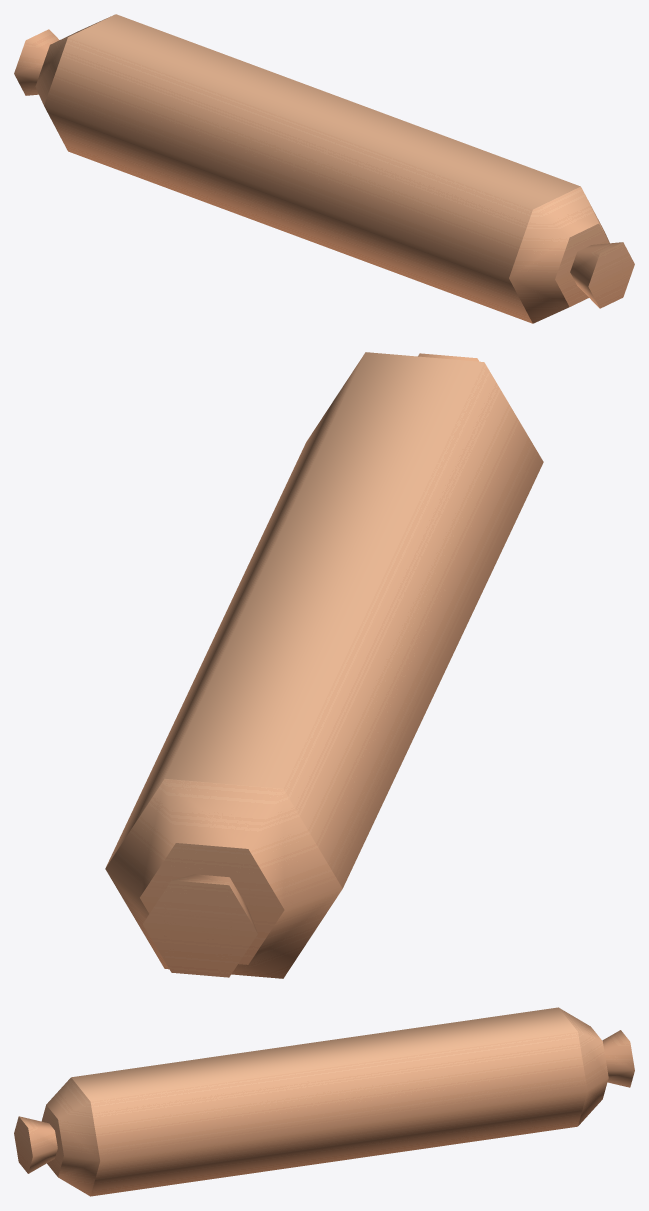
The model's file is hot-dog-raw.glb.
3 views of the same model, one above another, from view 1: azimuth 30°, elevation 25°; view 2: azimuth 150°, elevation 25°; view 3: azimuth 270°, elevation 25° (orthographic). The views are drawn at different scales.
Visible parts, largest first — view 1: hot-dog-raw; view 2: hot-dog-raw; view 3: hot-dog-raw.
Part boxes in pixels (box(x1,y1,x2,y2)): hot-dog-raw: box(14, 14, 634, 323); hot-dog-raw: box(105, 352, 543, 978); hot-dog-raw: box(14, 1007, 634, 1196).
Size of the model in its own units: 1.48 by 0.5528 by 3.27.
1 material, 1 textured.
